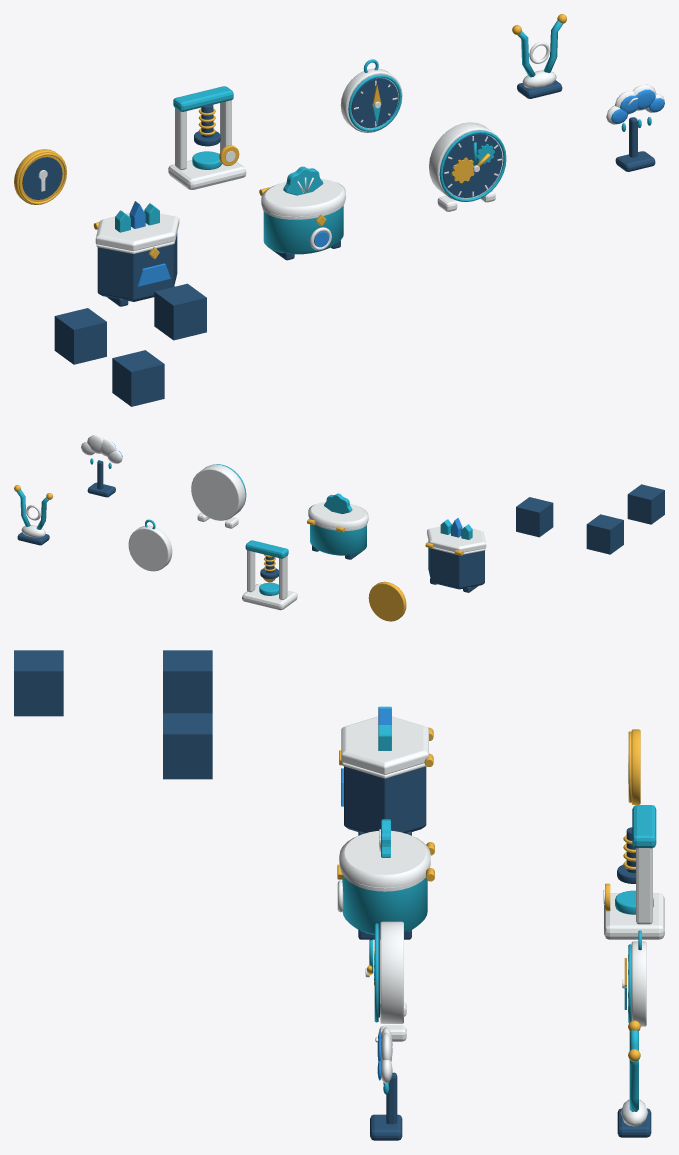
The model's file is catalog-002.glb.
The picture shows the model from 3 angles, top to bottom: view 1: azimuth 30°, elevation 25°; view 2: azimuth 150°, elevation 25°; view 3: azimuth 270°, elevation 25°; orthographic projection. The views are drawn at different scales.
Parts seen in each view (by area): view 1: chest_rare__Fixed_dark_03, coin_press__Fixed_pearl_05, catalog_002__calibration_right, catalog_002__calibration_front, catalog_002__calibration_origin, chest_uncommon__Fixed_teal_11, chest_uncommon__ChestLid_pearl_08, clockwork__Fixed_dark_01, chest_rare__ChestLid_pearl_09, clockwork__Fixed_pearl_04, compass__Fixed_dark_01, coin_press__Fixed_teal_07 (+9 smaller); view 2: clockwork__Fixed_pearl_04, chest_rare__Fixed_dark_03, compass__Fixed_pearl_03, coin_press__Fixed_pearl_05, chest_uncommon__Fixed_teal_11, catalog_002__calibration_front, catalog_002__calibration_origin, catalog_002__calibration_right, coin__Coin_gold_02, chest_uncommon__ChestLid_pearl_08, chest_rare__ChestLid_pearl_09, coin_press__Fixed_teal_07 (+4 smaller); view 3: chest_rare__Fixed_dark_03, chest_uncommon__ChestLid_pearl_08, chest_rare__ChestLid_pearl_09, chest_uncommon__Fixed_teal_11, catalog_002__calibration_right, catalog_002__calibration_front, catalog_002__calibration_origin, coin_press__Fixed_pearl_05, clockwork__Fixed_pearl_04, coin_press__Fixed_teal_07, compass__Fixed_pearl_03, cloud_mirror__Fixed_dark_02 (+1 smaller).
Boxes of the visible parts, x1,y1,x2,y2 form: chest_rare__Fixed_dark_03: (97,233,177,306); coin_press__Fixed_pearl_05: (168,100,246,189); catalog_002__calibration_right: (154,283,206,340); catalog_002__calibration_front: (112,350,164,406); catalog_002__calibration_origin: (54,308,106,364); chest_uncommon__Fixed_teal_11: (263,205,343,254); chest_uncommon__ChestLid_pearl_08: (261,177,345,216); clockwork__Fixed_dark_01: (442,133,502,197); chest_rare__ChestLid_pearl_09: (95,210,179,251); clockwork__Fixed_pearl_04: (429,122,503,211); compass__Fixed_dark_01: (351,78,398,128); coin_press__Fixed_teal_07: (173,86,233,169); clockwork__Fixed_pearl_04: (191,464,245,528); chest_rare__Fixed_dark_03: (428,541,484,592); compass__Fixed_pearl_03: (128,525,172,571); coin_press__Fixed_pearl_05: (242,550,297,610); chest_uncommon__Fixed_teal_11: (310,524,366,555); catalog_002__calibration_front: (627,484,664,524); catalog_002__calibration_origin: (586,514,623,554); catalog_002__calibration_right: (516,497,553,537); coin__Coin_gold_02: (368,581,406,621); chest_uncommon__ChestLid_pearl_08: (308,502,368,528); chest_rare__ChestLid_pearl_09: (427,524,486,552); coin_press__Fixed_teal_07: (245,540,288,595); chest_rare__Fixed_dark_03: (344,766,426,835); chest_uncommon__ChestLid_pearl_08: (339,829,430,887); chest_rare__ChestLid_pearl_09: (341,716,428,774); chest_uncommon__Fixed_teal_11: (342,875,427,935); catalog_002__calibration_right: (163,713,212,779); catalog_002__calibration_front: (14,650,63,716); catalog_002__calibration_origin: (163,650,212,713); coin_press__Fixed_pearl_05: (604,848,664,939); clockwork__Fixed_pearl_04: (365,921,406,1041); coin_press__Fixed_teal_07: (615,805,656,914); compass__Fixed_pearl_03: (622,941,646,1026); cloud_mirror__Fixed_dark_02: (370,1072,402,1140).
Bounding box in the file's own units: 5.71 × 0.7334 × 3.67.
